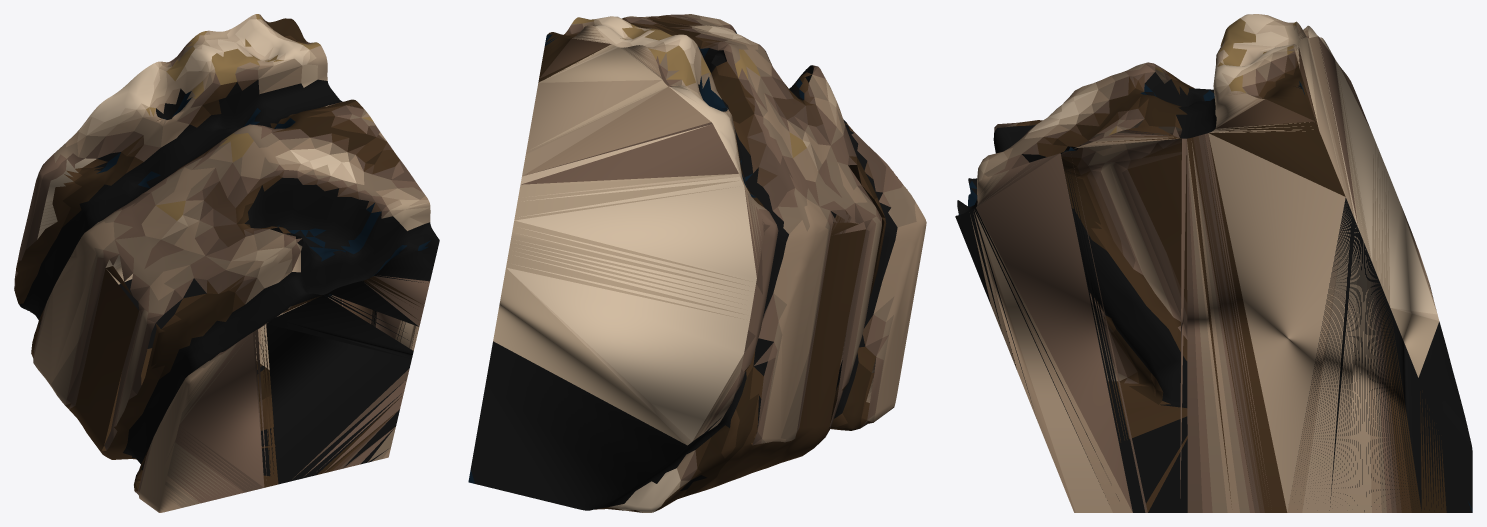
File: rock_column_wreck_ml.glb
3 renders of one model, left to right at view 1: azimuth 30°, elevation 25°; view 2: azimuth 150°, elevation 25°; view 3: azimuth 270°, elevation 25°, orthographic. The views are drawn at different scales.
Visible parts, largest first — view 1: rock_column_wreck_ml; view 2: rock_column_wreck_ml; view 3: rock_column_wreck_ml.
Part boxes in pixels (x1=…): rock_column_wreck_ml: x1=14, y1=14, x2=439, y2=512; rock_column_wreck_ml: x1=468, y1=14, x2=926, y2=512; rock_column_wreck_ml: x1=955, y1=14, x2=1472, y2=512.
Bounding box in the file's own units: 22.13 × 34.6 × 36.36.
